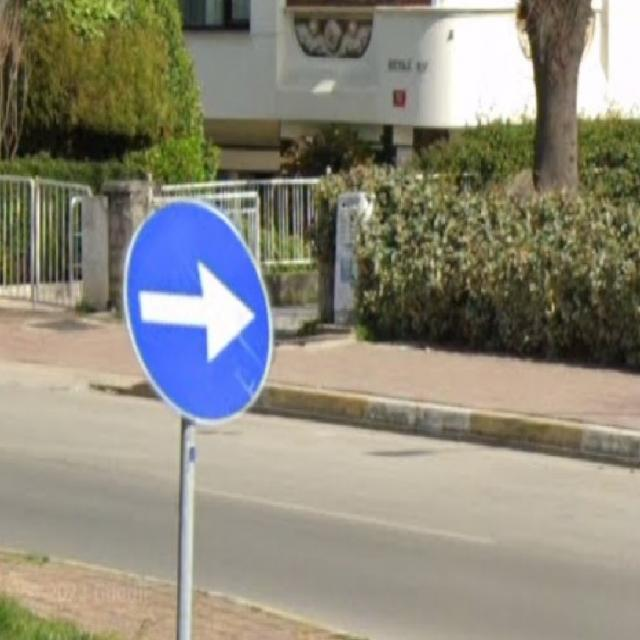Turn Right: (121, 193, 277, 432)
